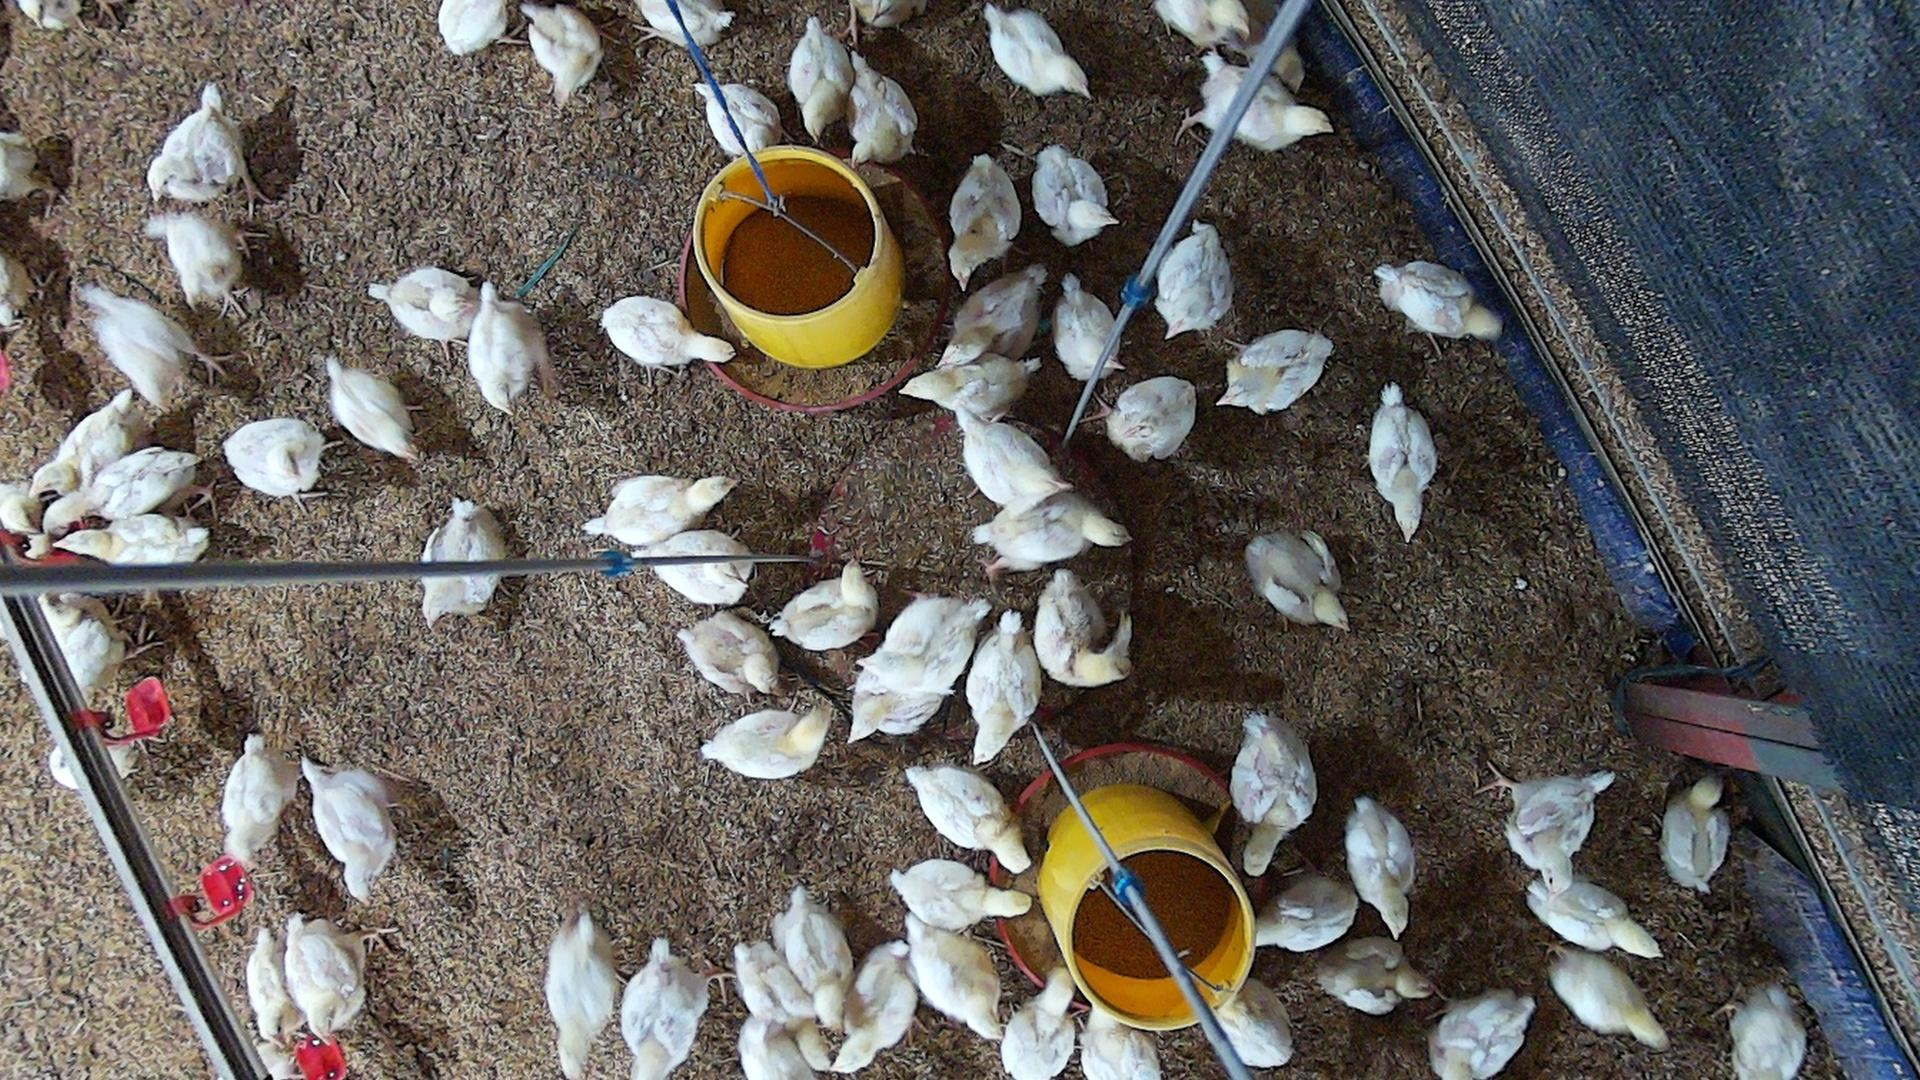ayam_broiler: (79, 278, 232, 407), (148, 82, 272, 219), (1176, 53, 1335, 150), (856, 593, 993, 704), (38, 446, 219, 529), (1232, 712, 1315, 878), (301, 758, 397, 901), (906, 765, 1029, 873), (733, 940, 833, 1071), (620, 938, 709, 1080), (149, 211, 266, 319), (546, 909, 618, 1080), (601, 297, 736, 389), (771, 887, 856, 1030), (419, 498, 510, 630), (905, 919, 1004, 1039), (30, 390, 136, 502), (1551, 947, 1667, 1048), (971, 495, 1126, 568), (1523, 870, 1659, 955), (225, 418, 343, 516), (967, 608, 1040, 762), (1505, 771, 1617, 872), (1035, 570, 1130, 687), (584, 473, 729, 550), (832, 942, 916, 1072), (284, 913, 367, 1044), (1369, 382, 1437, 541), (960, 413, 1068, 513), (467, 281, 549, 413), (902, 347, 1042, 422), (1196, 969, 1294, 1076), (889, 858, 1029, 932), (1245, 530, 1348, 629), (1346, 794, 1416, 938), (223, 733, 297, 866), (949, 153, 1022, 287), (1429, 990, 1535, 1080), (327, 351, 415, 458), (1220, 330, 1333, 413), (986, 4, 1089, 95), (771, 562, 877, 650), (1377, 261, 1501, 336), (702, 704, 829, 777), (628, 530, 753, 604), (943, 266, 1046, 355), (844, 662, 956, 742), (1712, 985, 1807, 1080), (1158, 222, 1236, 336), (678, 608, 778, 695), (1000, 969, 1077, 1080), (50, 514, 211, 566), (526, 1, 603, 109), (972, 505, 1100, 568), (1034, 144, 1114, 244), (1317, 939, 1428, 1011), (1055, 272, 1125, 386), (372, 265, 475, 342), (1255, 874, 1358, 951), (1108, 376, 1197, 460), (1663, 777, 1727, 893), (849, 53, 916, 164), (789, 17, 849, 140), (1077, 1004, 1162, 1080), (695, 83, 783, 154), (731, 1021, 831, 1080), (636, 0, 725, 53), (1154, 0, 1250, 47), (438, 0, 508, 54)
